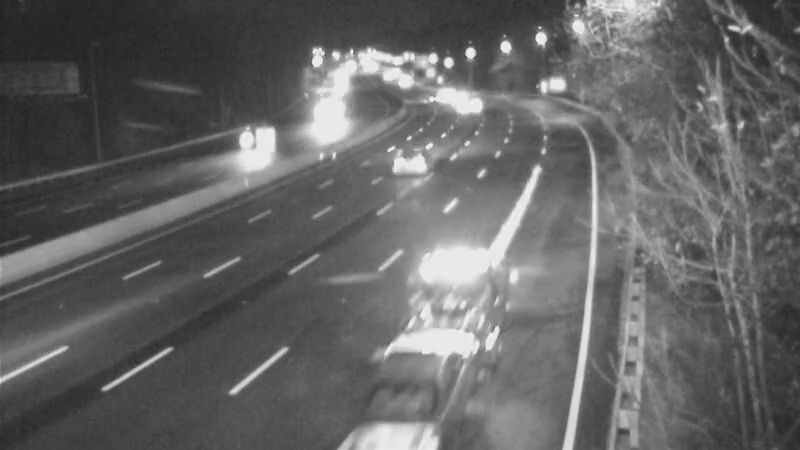vehicle: (367, 338, 477, 448), (366, 123, 446, 203), (427, 73, 477, 123), (403, 73, 453, 123), (444, 82, 494, 132), (221, 117, 271, 167), (304, 93, 354, 143)
